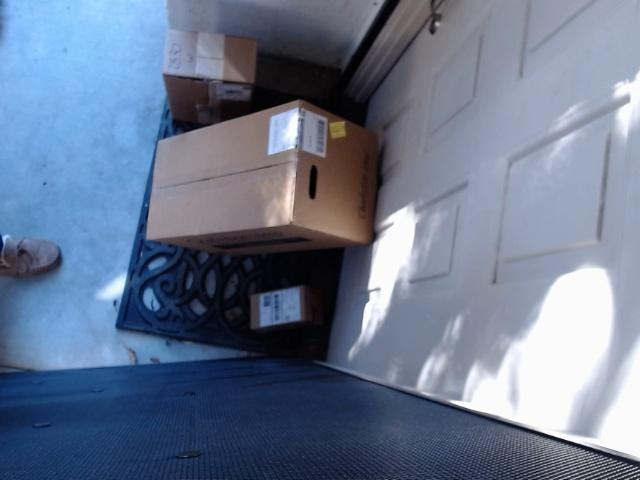box: (145, 100, 379, 256), (162, 28, 258, 123), (249, 285, 325, 332)
